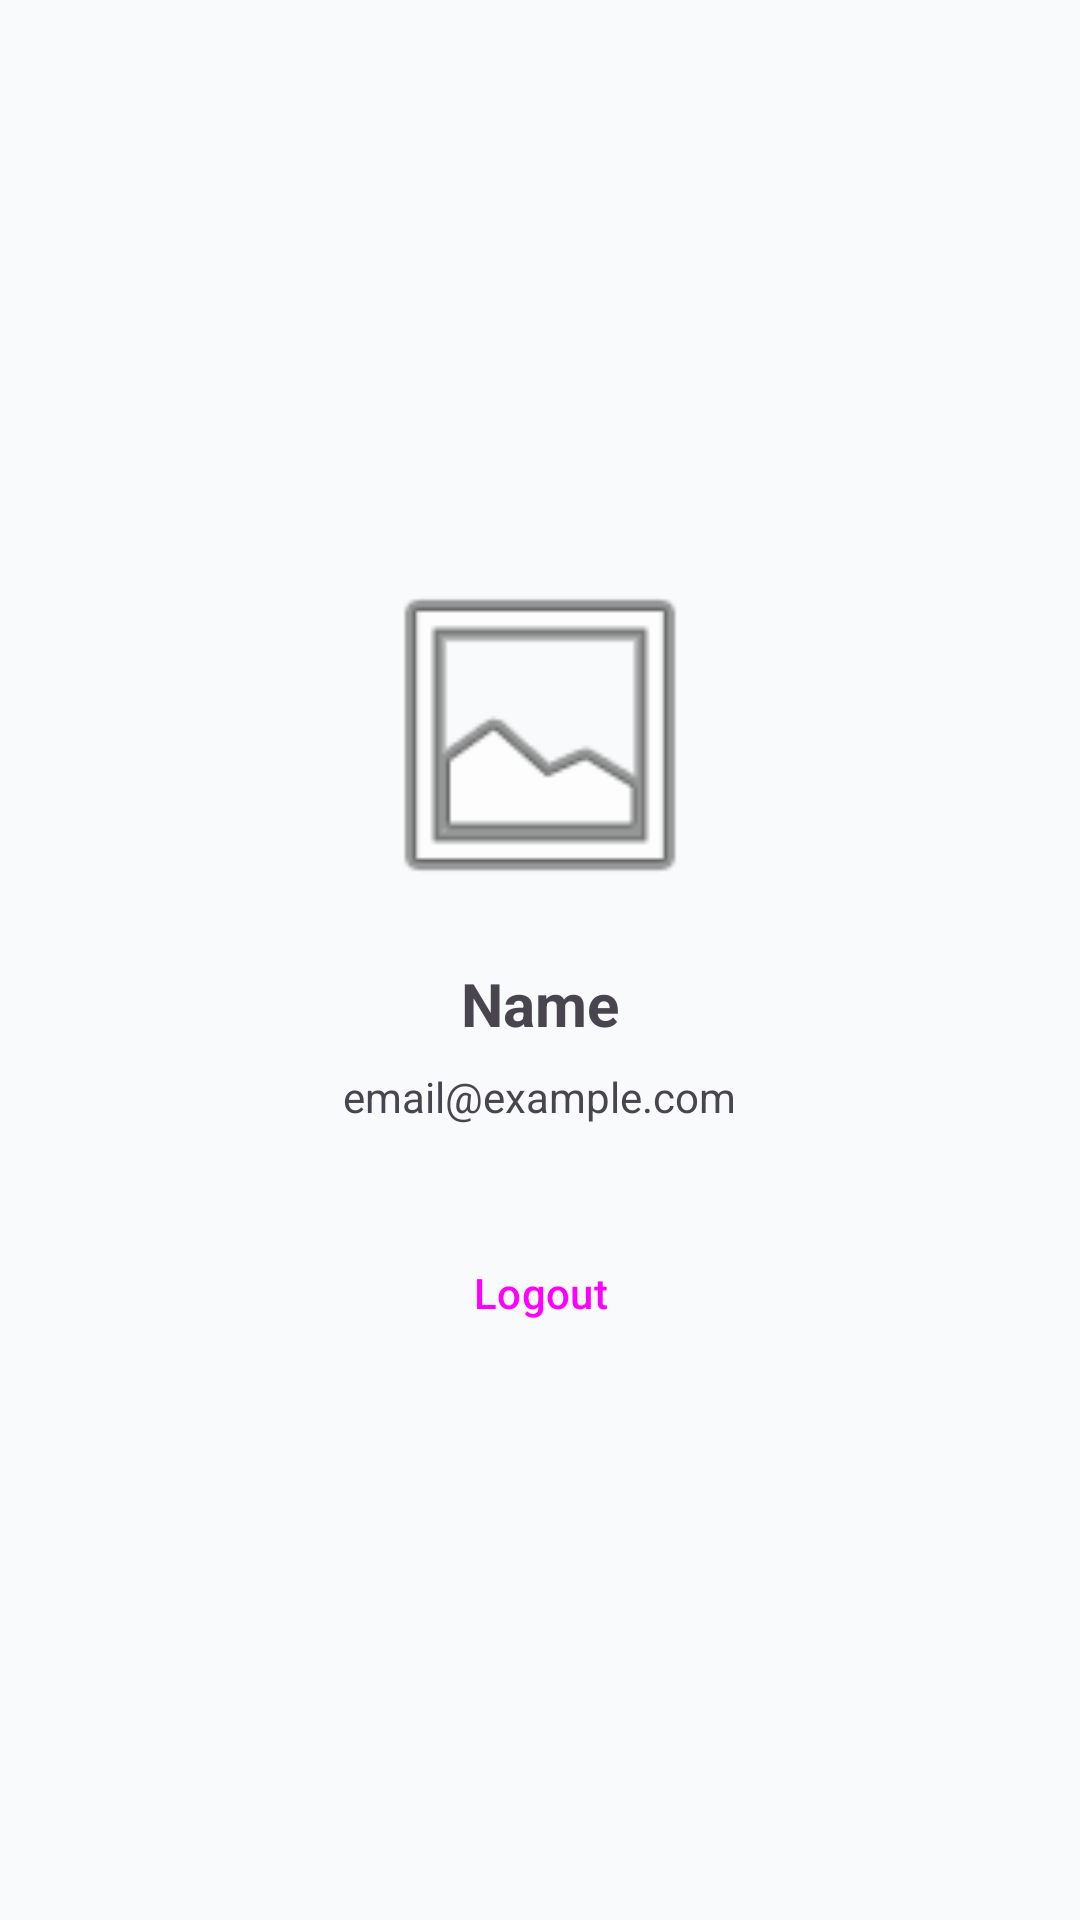

Screen size 1080x1920. Icon name, then its center in pixels as (x=x, y=y):
gallery: (x=540, y=735)
